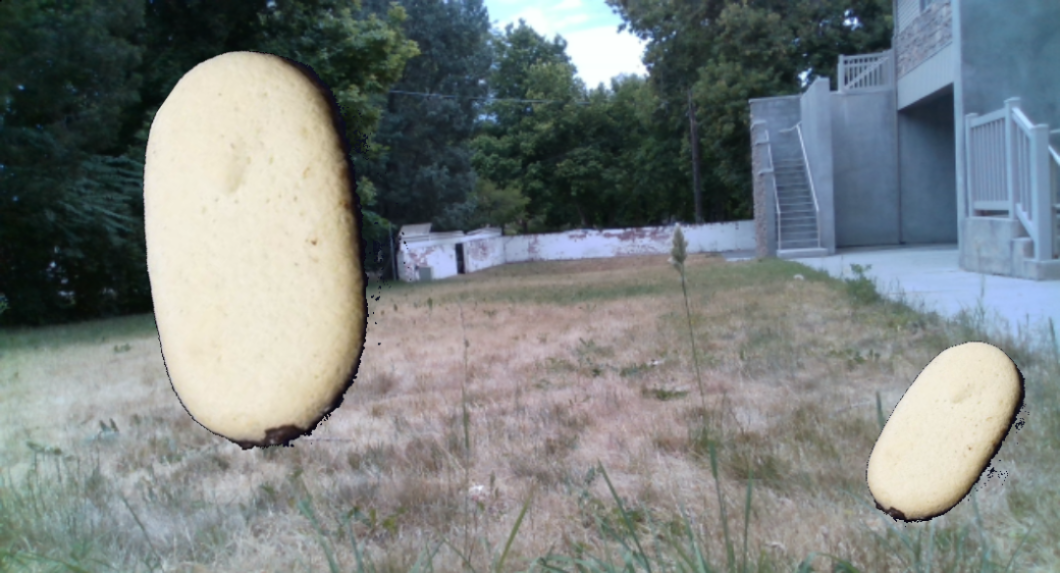test: (20, 4, 498, 489), (837, 329, 1056, 536)
